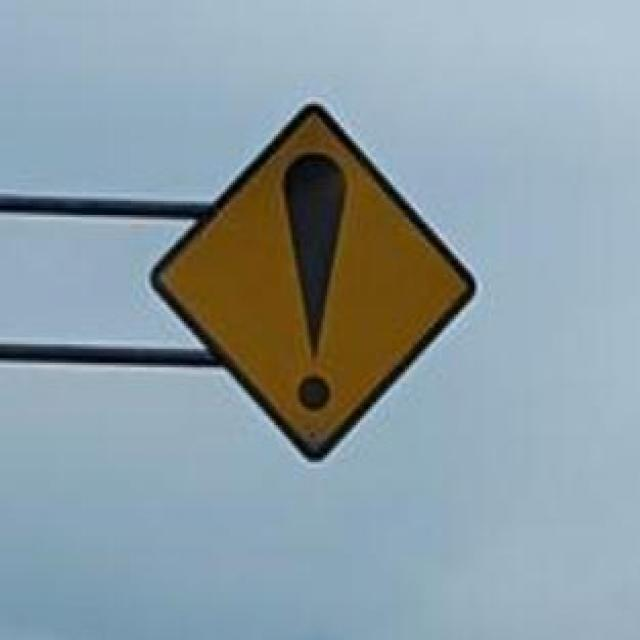traffic sign: (156, 104, 475, 458)
